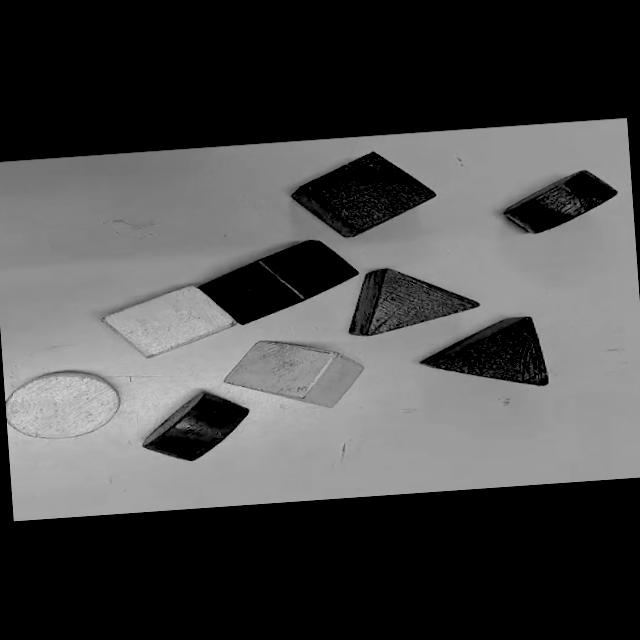bcircle: (503, 170, 616, 232)
bcube: (290, 151, 435, 236)
btriangle: (420, 315, 547, 385)
rcircle: (142, 391, 248, 460)
rcube: (198, 239, 357, 324)
rtriangle: (348, 268, 479, 335)
ycircle: (5, 371, 120, 437)
ycube: (101, 285, 234, 357)
ytriangle: (223, 340, 363, 407)
